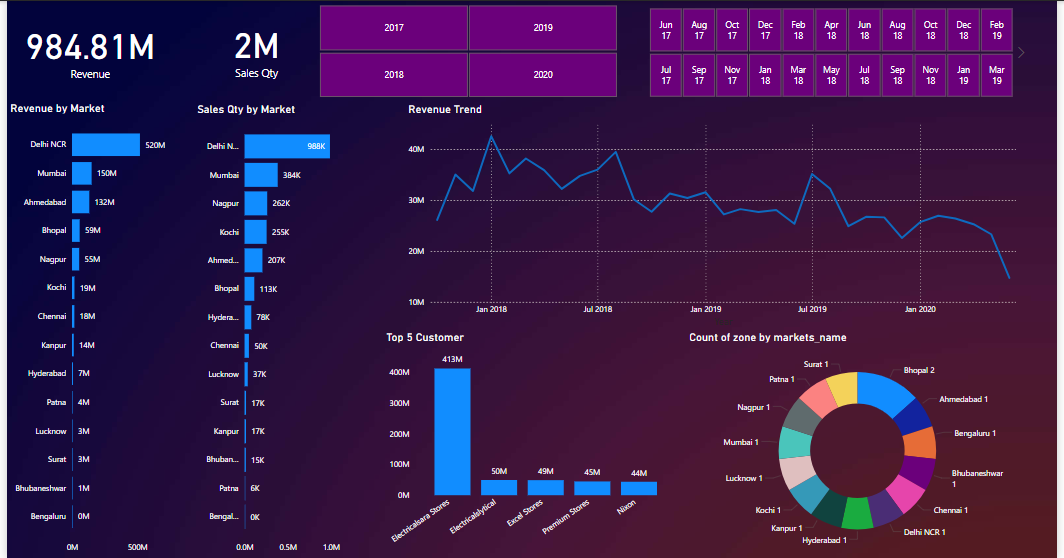

The dashboard page shown, as its layout file describes it:
{"tool":"powerbi","page":{"name":"Page 1","canvas":[1600,850],"ordinal":0},"visuals":[{"type":"card","fields":{"Values":["BaseMeasure.Revenue"]},"box":[0,17.7,253.3,108.1],"z":0},{"type":"card","fields":{"Values":["BaseMeasure.Sales Qty"]},"box":[252.6,17.1,254.3,109.2],"z":1000},{"type":"clusteredBarChart","title":"Revenue by Market","fields":{"Y":["BaseMeasure.Revenue"],"Category":["sales markets.markets_name"]},"box":[0,152.7,267.1,697.3],"z":2000},{"type":"clusteredBarChart","title":"Sales Qty by Market","fields":{"Y":["BaseMeasure.Sales Qty"],"Category":["sales markets.markets_name"]},"box":[285.6,153.1,254.6,696.8],"z":3000},{"type":"slicer","fields":{"Values":["sales date.year"]},"box":[450.8,0,502.4,153.1],"z":4000},{"type":"slicer","fields":{"Values":["sales date.cy_date"]},"box":[953.1,5.2,602.2,148],"z":5000},{"type":"columnChart","title":"Top 5 Customer","fields":{"Category":["sales customers.custmer_name"],"Y":["BaseMeasure.Revenue"]},"box":[572.4,501.3,452.8,348.7],"z":7000},{"type":"lineChart","title":"Revenue Trend","fields":{"Y":["BaseMeasure.Revenue"],"Category":["sales date.cy_date.Variation.Date Hierarchy.Year","sales date.cy_date.Variation.Date Hierarchy.Quarter","sales date.cy_date.Variation.Date Hierarchy.Month","sales date.cy_date.Variation.Date Hierarchy.Day"]},"box":[605.6,153.1,949.7,347.5],"z":8000},{"type":"donutChart","fields":{"Category":["sales markets.markets_name"],"Y":["CountNonNull(sales markets.zone)"]},"box":[1033.9,501.3,522.1,348.7],"z":9000}]}

Visuals, with their boxes in screenshot pixels (x1, y1, x2, y2), scaled from the page's 1600x850 canvas onto the 1064x558 screenshot:
card - BaseMeasure.Revenue: Rect(0, 12, 168, 83)
card - BaseMeasure.Sales Qty: Rect(168, 11, 337, 83)
"Revenue by Market" clusteredBarChart: Rect(0, 100, 178, 557)
"Sales Qty by Market" clusteredBarChart: Rect(190, 101, 359, 557)
slicer - sales date.year: Rect(300, 0, 634, 101)
slicer - sales date.cy_date: Rect(634, 3, 1034, 101)
"Top 5 Customer" columnChart: Rect(381, 329, 682, 557)
"Revenue Trend" lineChart: Rect(403, 101, 1034, 329)
donutChart - sales markets.markets_name x CountNonNull(sales markets.zone): Rect(688, 329, 1035, 557)
